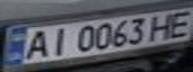0: (72, 23, 96, 53), (93, 20, 115, 51)
3: (127, 16, 151, 45)
6: (112, 17, 133, 48)
A: (18, 28, 54, 61)
E: (163, 7, 193, 38)
H: (145, 11, 181, 42)
I: (42, 25, 72, 56)
